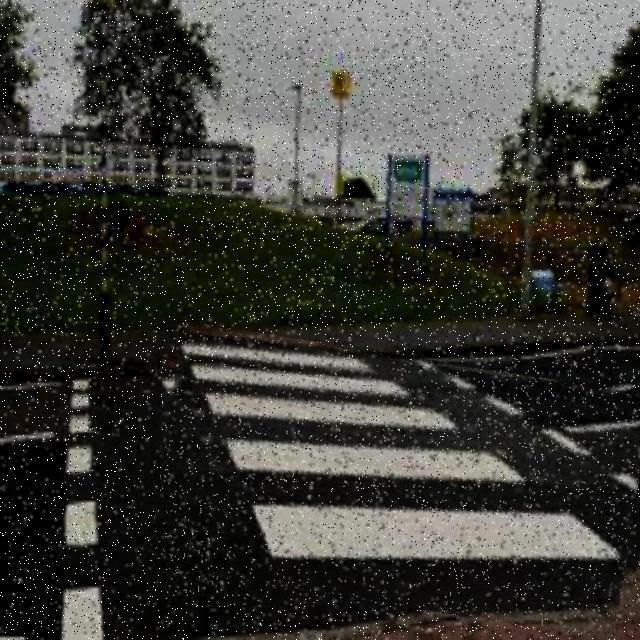crosswalk: (154, 339, 640, 622)
